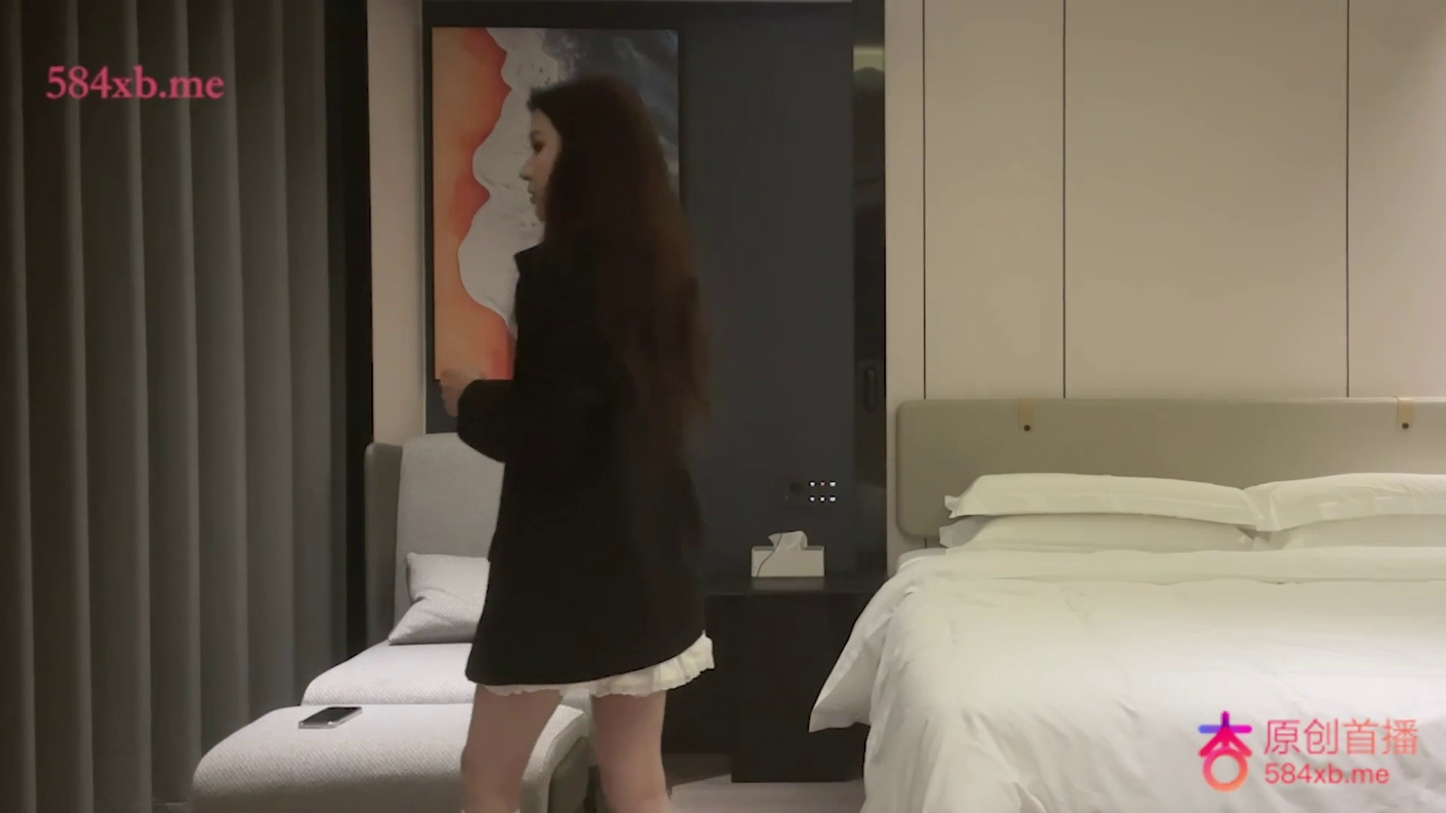stand: (435, 72, 718, 806)
